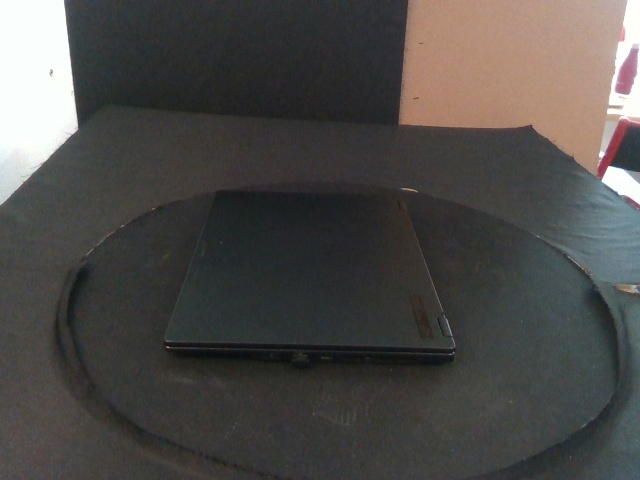laptop: (162, 189, 457, 368)
